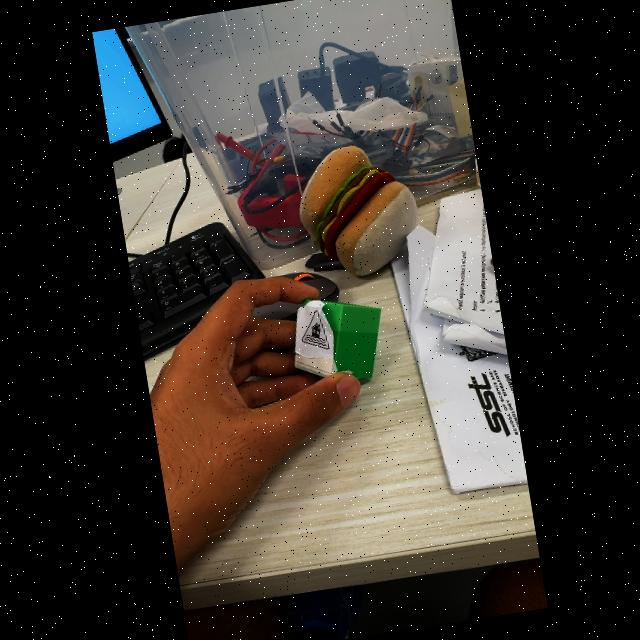Tsunami: (302, 311, 329, 349)
